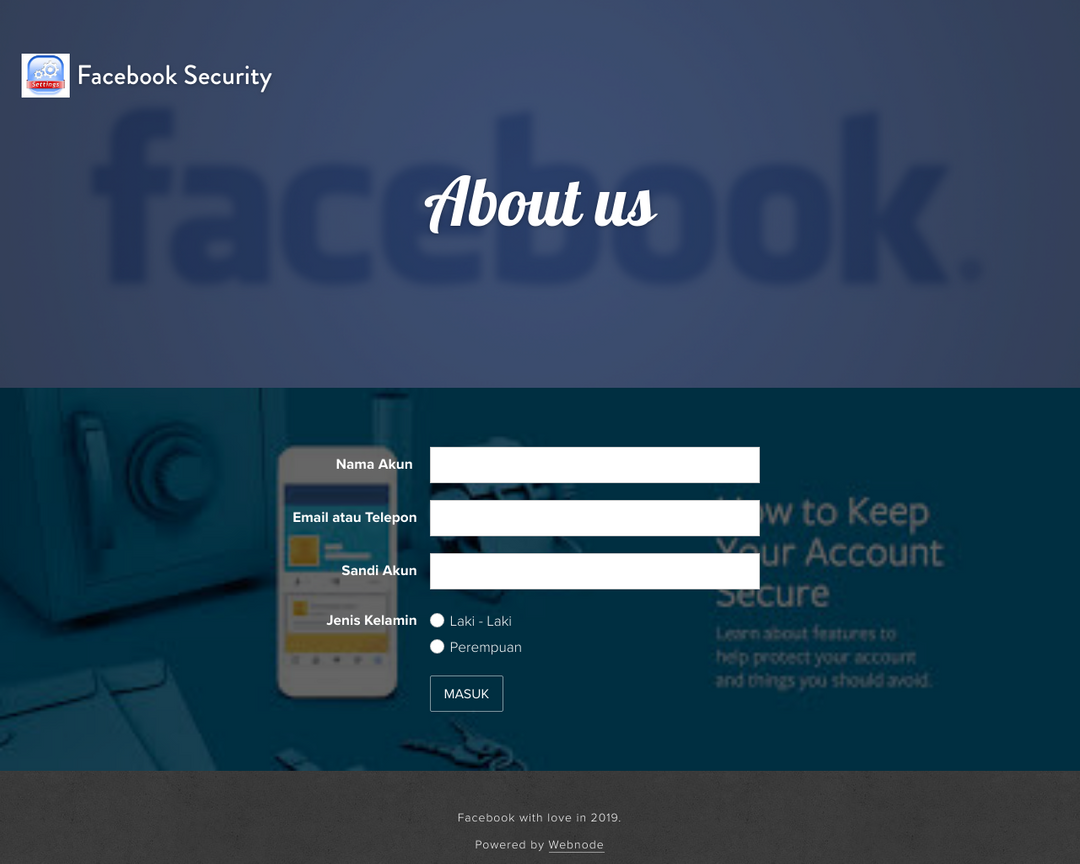Facebook: (76, 59, 179, 92)
